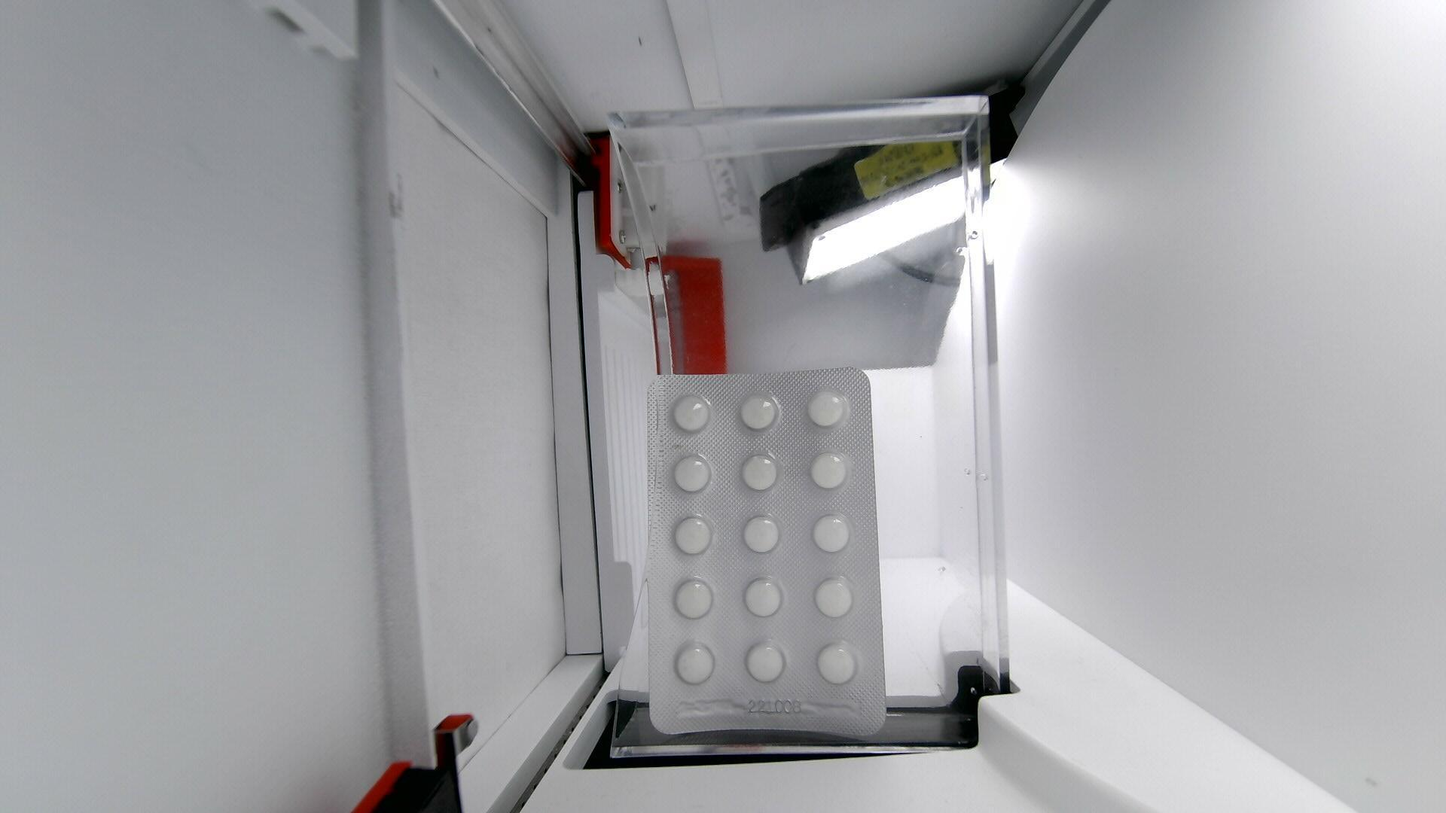Light Front: (645, 369, 886, 735)
Pill Front: (671, 394, 711, 434), (746, 642, 786, 681), (817, 643, 856, 683), (810, 452, 852, 489), (676, 644, 714, 684), (740, 394, 779, 430), (807, 391, 847, 426), (675, 580, 711, 617), (745, 578, 780, 616), (742, 455, 779, 490), (816, 579, 850, 617), (675, 455, 710, 491), (676, 517, 710, 553), (814, 515, 847, 551), (744, 517, 778, 551)
